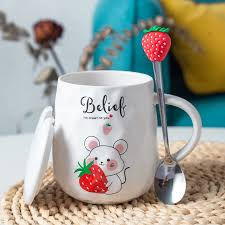mug: (50, 61, 207, 203)
